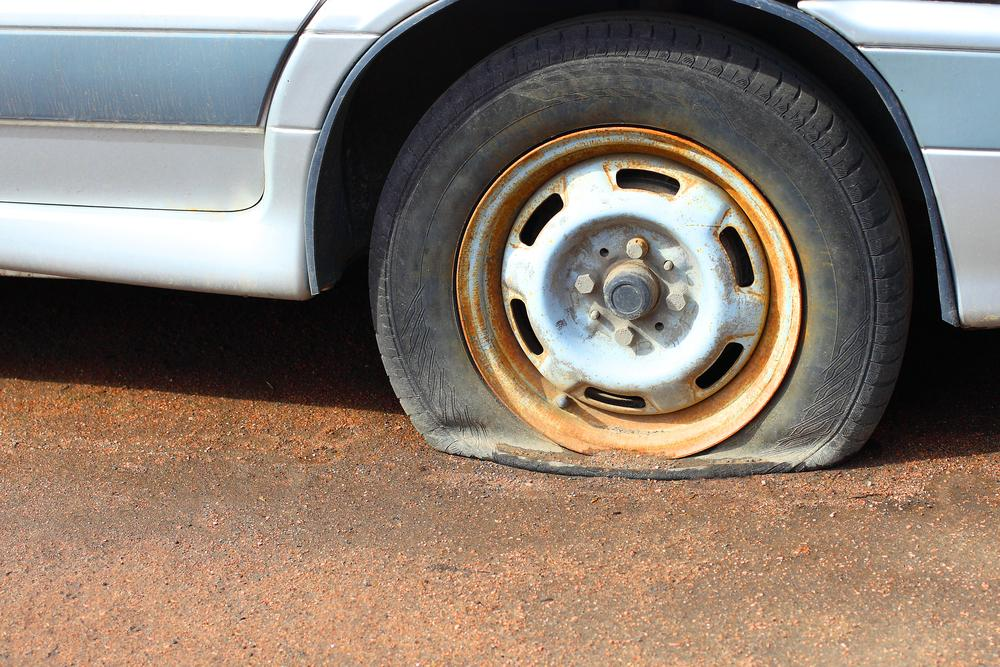tire flat: (362, 13, 916, 478)
